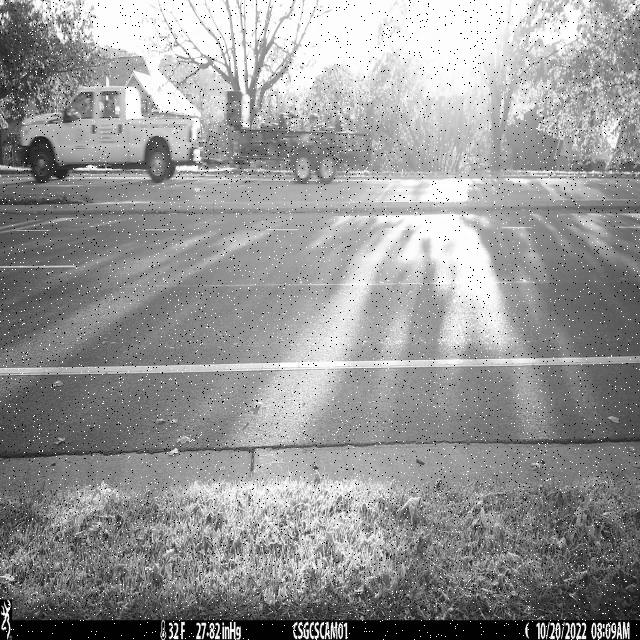Box Truck: (202, 102, 374, 184)
Pickup: (16, 86, 203, 184)
